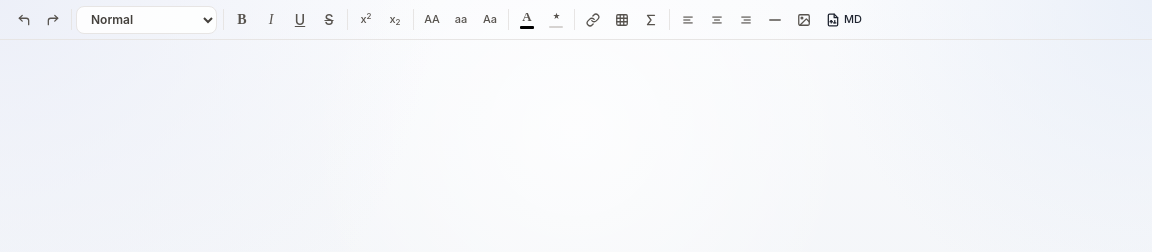
Scenario: LexicalToolbar › keeps the copied markdown state tied to the latest click
Click the button "MD": point(844, 20) x1=819 y1=6 x2=869 y2=34
Wait 1000 ms
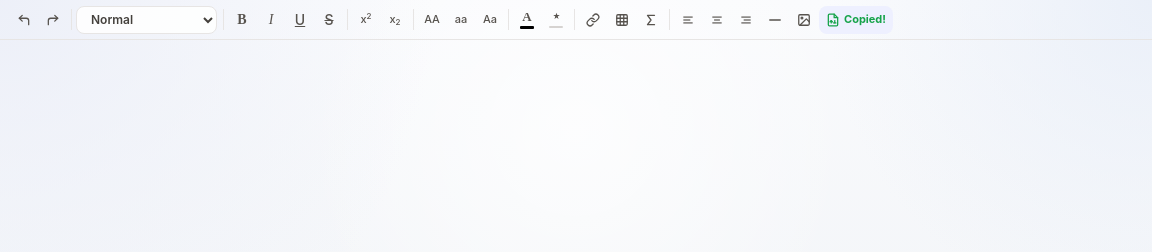
Expected: the button "Copied!" is shown
Click the button "Copied!": point(856, 20) x1=819 y1=6 x2=893 y2=34
Wait 1800 ms
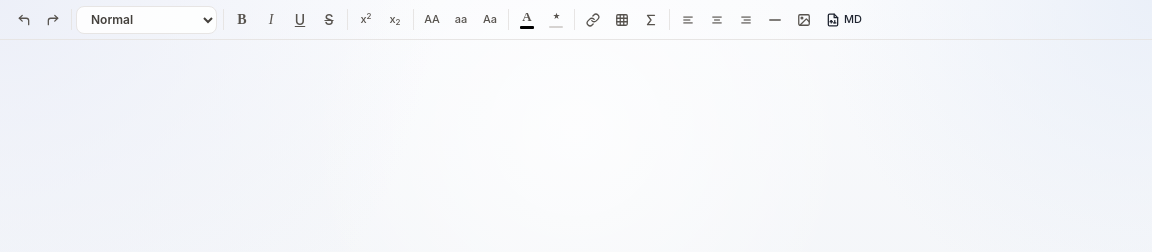
Expected: the button "MD" is shown, x1=819 y1=6 x2=869 y2=34
